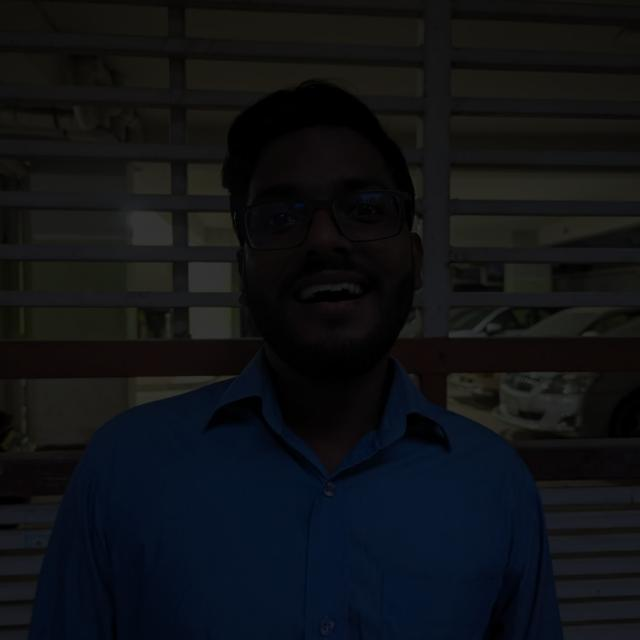Happy: (199, 119, 428, 389)
